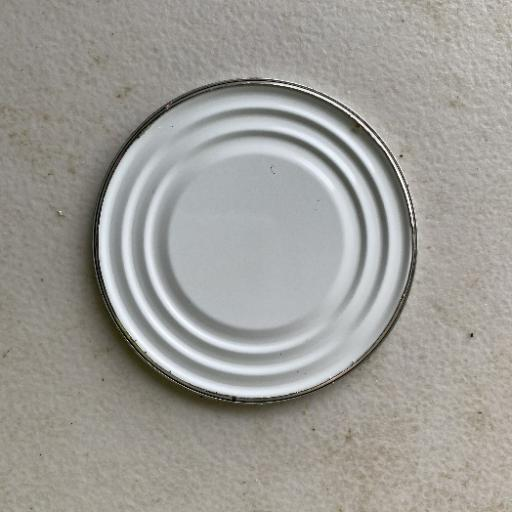Metal: (89, 75, 420, 406)
